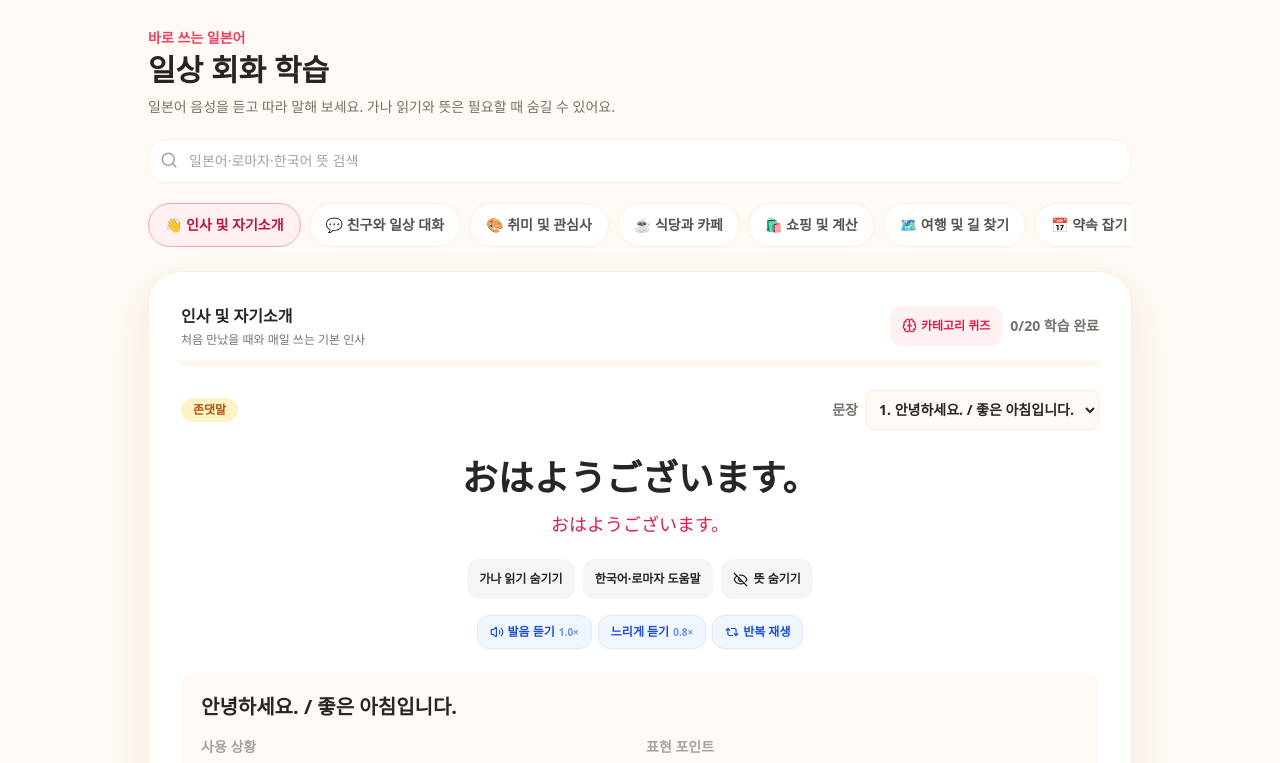
it: 회화 학습 화면 › 한자 문장에 가나 읽기를 표시하고 한국어·로마자는 필요할 때 펼친다
The width and height of the screenshot is (1280, 763).
Select "5. 저는 민주입니다." in the dropdown named "회화 문장 선택". click: (982, 410)
box: [866,390,1099,430]
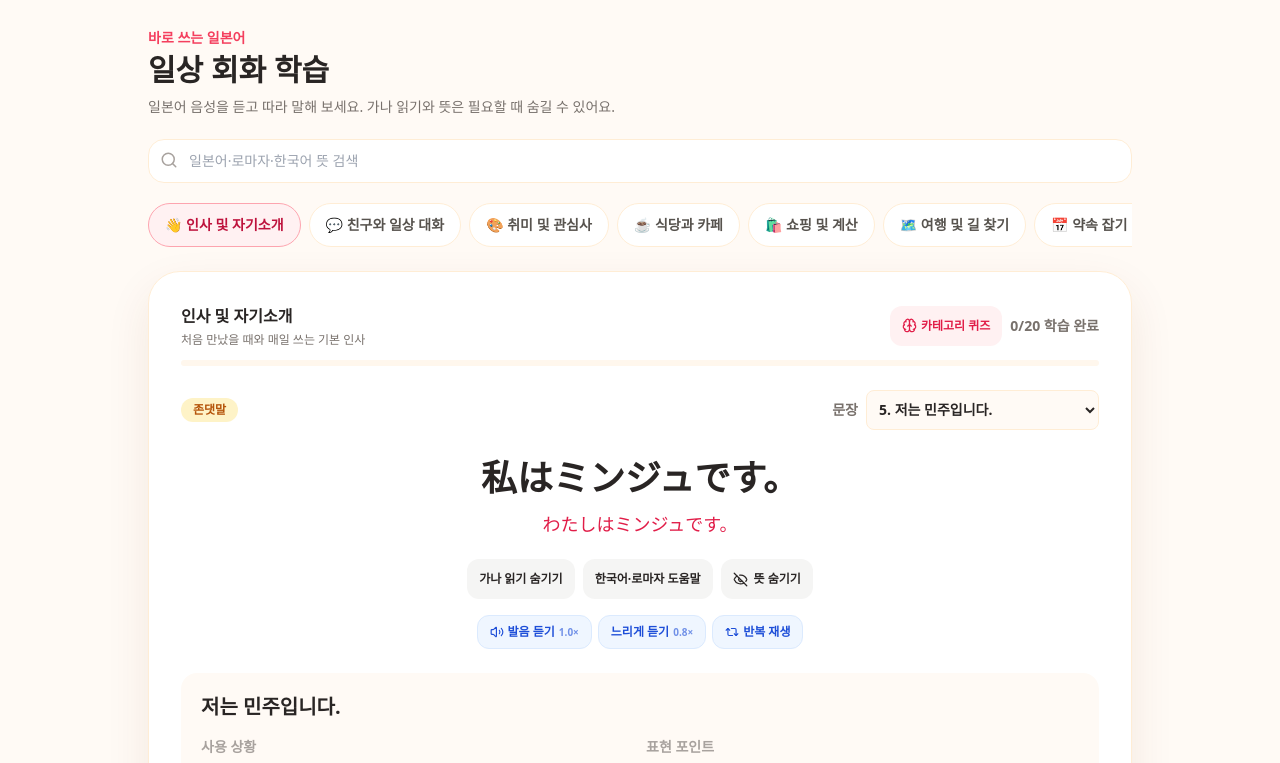
Check: the text "Watashi wa Minju desu." is not shown
Check: the text "私はミンジュです。" is shown, box [481,453,799,502]
Check: the text "わたしはミンジュです。" is shown, box [542,512,738,536]
Click the button "한국어·로마자 도움말". click: (648, 579)
box: [583,559,713,599]
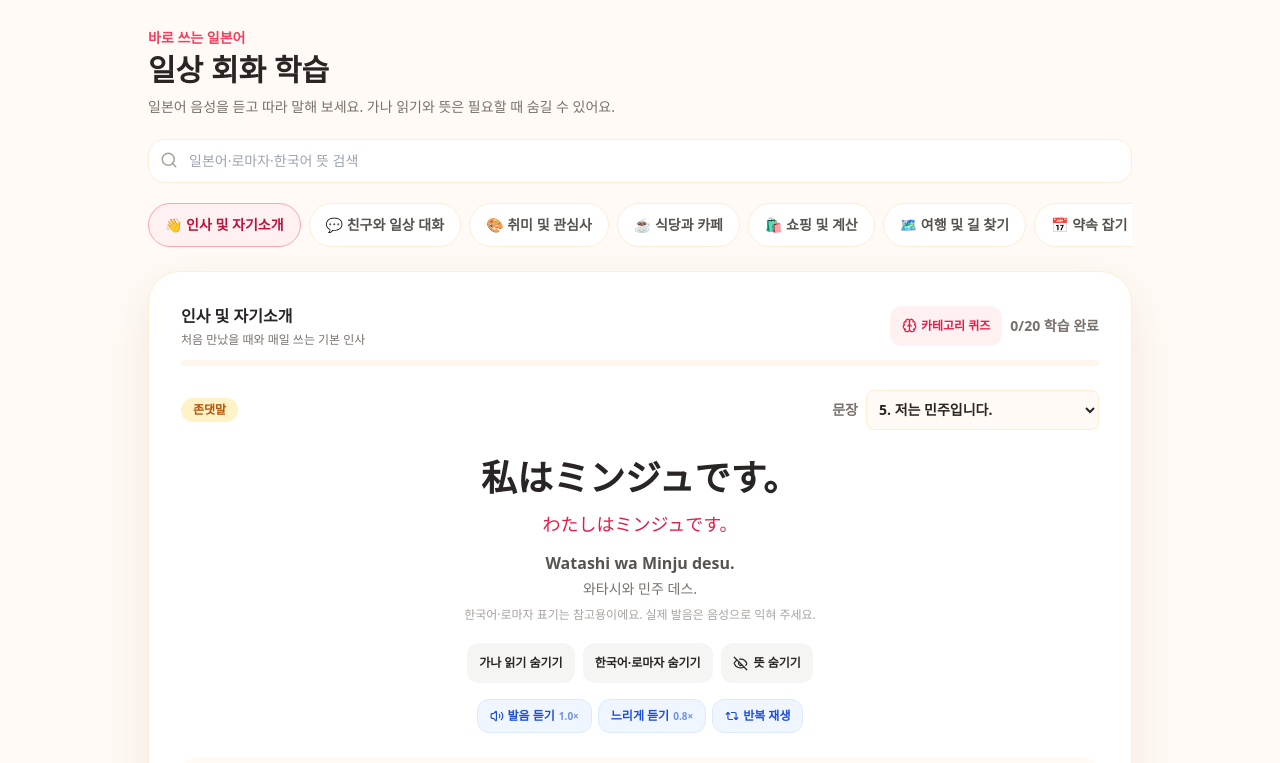
Check: the text "Watashi wa Minju desu." is shown, box [546,552,735,574]
